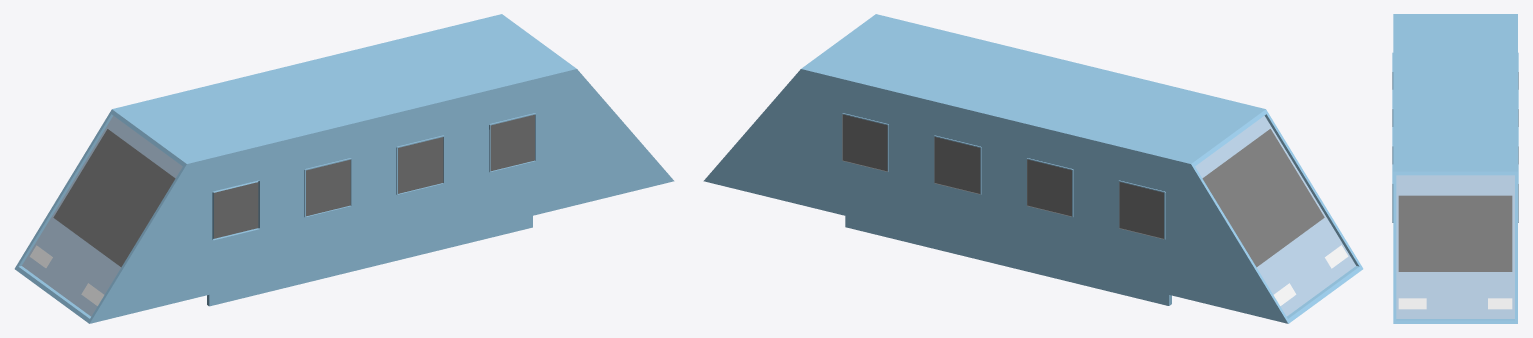
Rendered from NewTrain.glb.
3 views of the same model, side by side, from view 1: azimuth 30°, elevation 25°; view 2: azimuth 150°, elevation 25°; view 3: azimuth 270°, elevation 25° (orthographic). The views are drawn at different scales.
Parts seen in each view (by area): view 1: Cube; view 2: Cube; view 3: Cube.
Boxes of the visible parts, x1,y1,x2,y2 form: Cube: (14, 14, 674, 323); Cube: (703, 14, 1363, 323); Cube: (1392, 14, 1518, 323).
Bounding box in the file's own units: 1.8 × 0.4431 × 0.4065.
